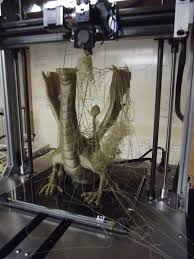fail: (101, 187, 194, 259), (90, 96, 134, 196), (72, 65, 111, 139), (54, 161, 95, 206), (70, 44, 101, 73)
